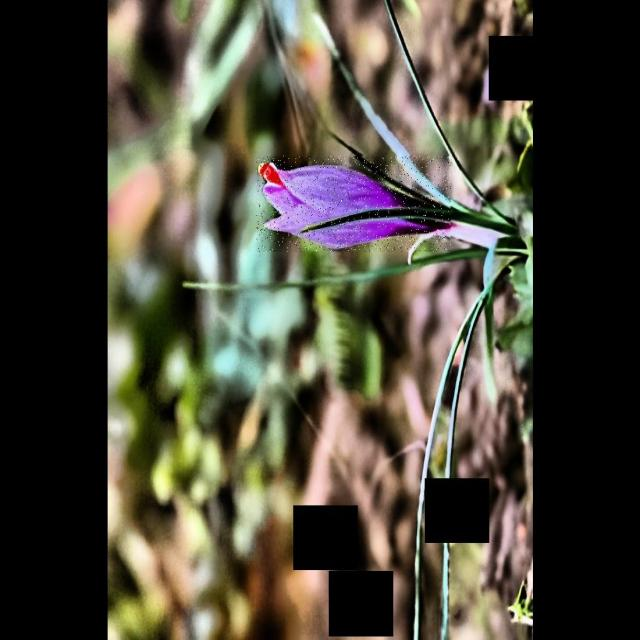Flower: (256, 155, 451, 251)
stigma: (255, 159, 286, 193)
